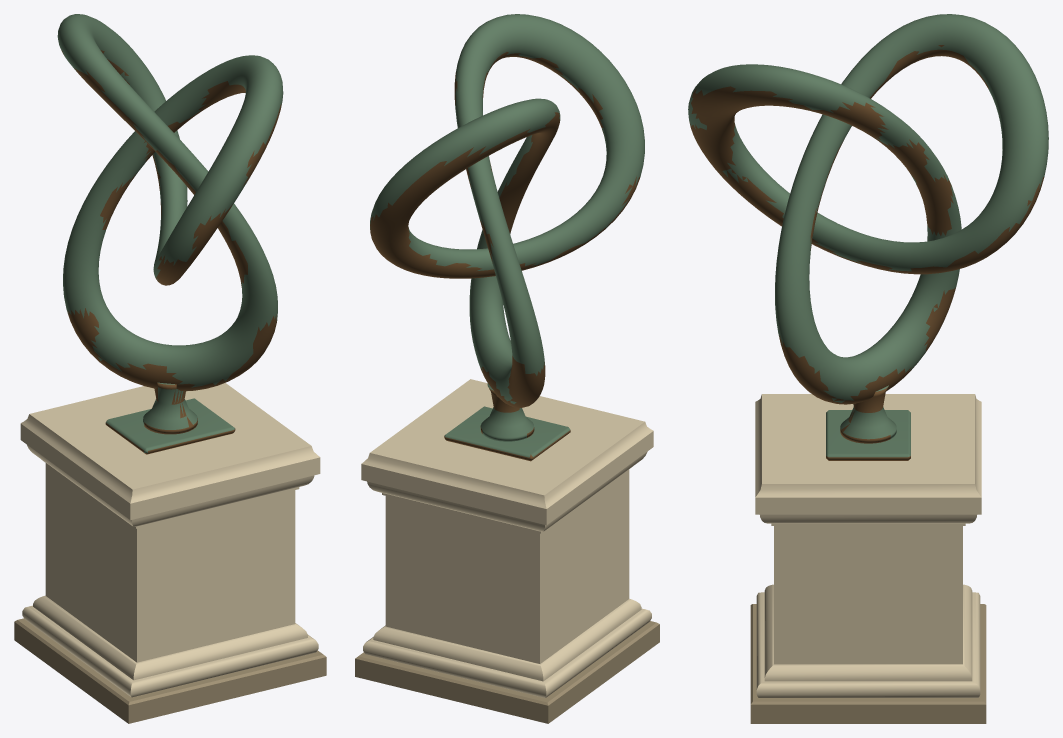
3 renders of one model, left to right at view 1: azimuth 30°, elevation 25°; view 2: azimuth 150°, elevation 25°; view 3: azimuth 270°, elevation 25°, orthographic. The views are drawn at different scales.
Visible parts, largest first — view 1: Plinth_Limestone, Bronze_Verdigris, Bronze_Brown, Plinth_Weathered; view 2: Plinth_Limestone, Bronze_Verdigris, Bronze_Brown, Plinth_Weathered; view 3: Plinth_Limestone, Bronze_Verdigris, Bronze_Brown, Plinth_Weathered.
Boxes of the visible parts, x1=… form: Plinth_Limestone: x1=20, y1=383, x2=320, y2=697; Bronze_Verdigris: x1=57, y1=14, x2=283, y2=453; Bronze_Brown: x1=61, y1=50, x2=281, y2=454; Plinth_Weathered: x1=14, y1=618, x2=326, y2=723; Plinth_Limestone: x1=361, y1=379, x2=653, y2=697; Bronze_Verdigris: x1=370, y1=14, x2=644, y2=457; Bronze_Brown: x1=370, y1=52, x2=640, y2=461; Plinth_Weathered: x1=355, y1=621, x2=659, y2=723; Plinth_Limestone: x1=755, y1=394, x2=981, y2=697; Bronze_Verdigris: x1=688, y1=14, x2=1048, y2=457; Bronze_Brown: x1=689, y1=45, x2=1044, y2=460; Plinth_Weathered: x1=750, y1=604, x2=986, y2=723.
Bounding box in the file's own units: 1 × 2.96 × 1.53.
